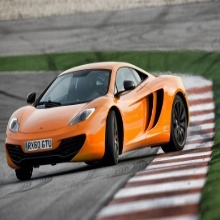no damage: (5, 61, 190, 179)
